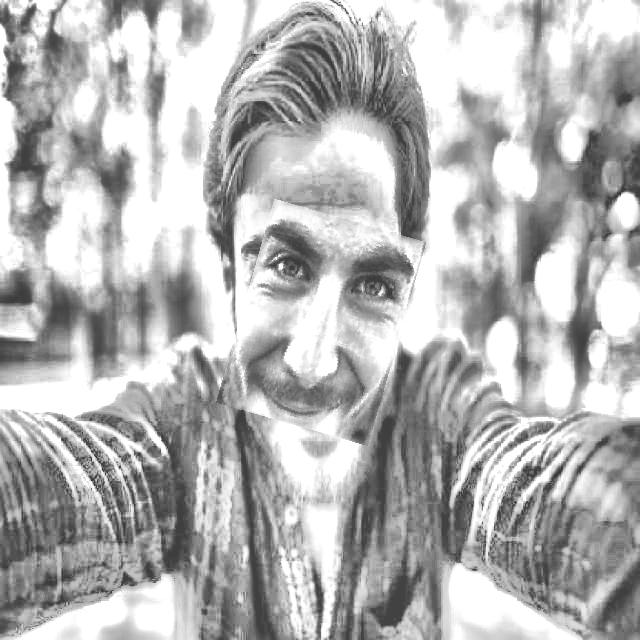happy: (229, 208, 413, 438)
